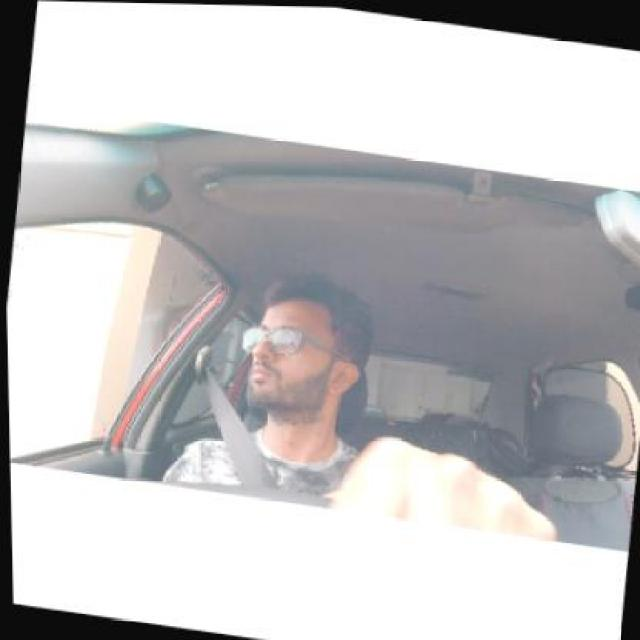person: (245, 292, 367, 416)
